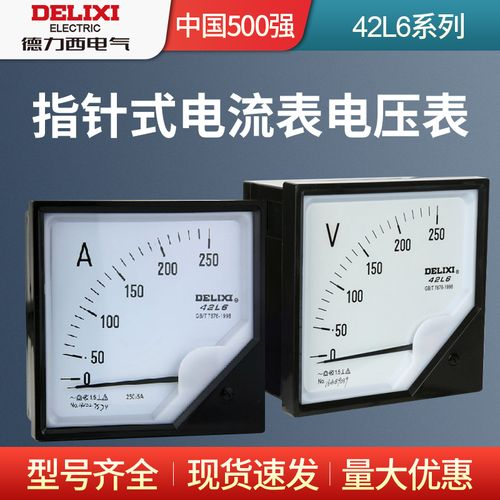pointer: (42, 211, 251, 424), (301, 187, 477, 405)
